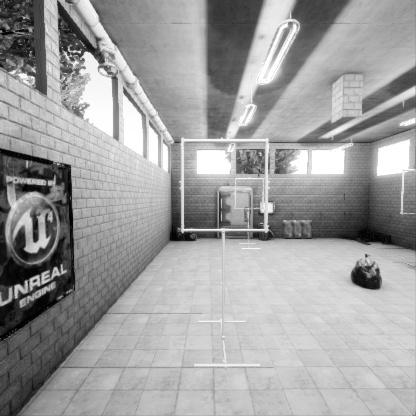gate: (182, 188, 273, 279), (234, 208, 265, 239), (406, 203, 416, 248)
